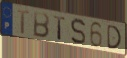6: (89, 21, 103, 49)
B: (32, 11, 51, 40)
D: (106, 24, 123, 51)
S: (70, 18, 87, 47)
T: (16, 9, 30, 36), (53, 14, 66, 42)
